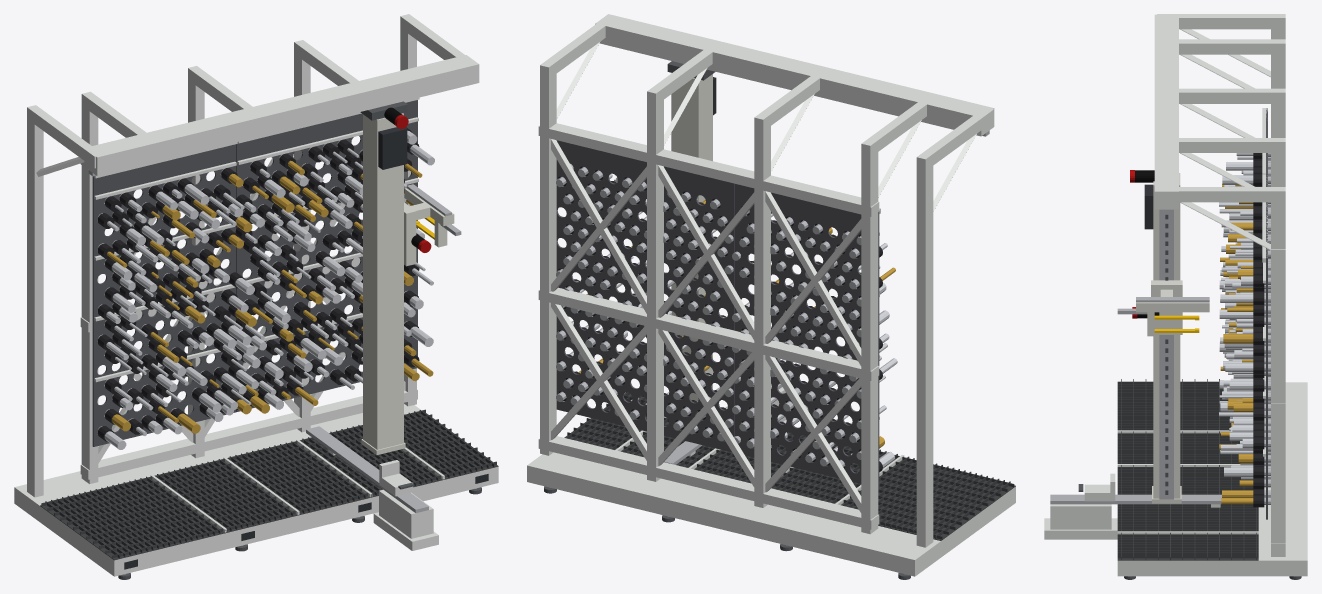
The model's file is tool_wall_magazine_2mod_white.glb.
3 renders of one model, left to right at view 1: azimuth 30°, elevation 25°; view 2: azimuth 150°, elevation 25°; view 3: azimuth 270°, elevation 25°, orthographic. The views are drawn at different scales.
Parts seen in each view (by area): view 1: twm_frame__truss_white, twm_base__grating, twm_frame__anthracite_lt, twm_tools__holder, twm_tools__tool_bright, twm_base__truss_white, mag_loader__struct_grey, twm_tools__tool_gold, twm_load_station__truss_white, twm_load_station__steel, mag_loader_z__struct_grey, mag_loader__anthracite (+2 smaller); view 2: twm_frame__truss_white, twm_frame__anthracite_lt, twm_base__truss_white, twm_tools__steel, twm_base__grating, mag_loader__struct_grey, twm_tools__holder, twm_tools__tool_bright; view 3: twm_frame__truss_white, twm_base__grating, twm_base__truss_white, twm_tools__tool_bright, twm_tools__holder, mag_loader__struct_grey, mag_loader__steel, twm_tools__tool_gold, twm_load_station__truss_white, mag_loader_z__struct_grey, twm_load_station__steel, twm_tools__steel (+6 smaller).
Part boxes in pixels (bbox=[...]): twm_frame__truss_white: bbox=[27, 14, 479, 497]; twm_base__grating: bbox=[40, 409, 498, 560]; twm_frame__anthracite_lt: bbox=[92, 100, 417, 446]; twm_tools__holder: bbox=[97, 127, 419, 441]; twm_tools__tool_bright: bbox=[104, 130, 434, 449]; twm_base__truss_white: bbox=[14, 404, 498, 576]; mag_loader__struct_grey: bbox=[361, 113, 405, 455]; twm_tools__tool_gold: bbox=[107, 160, 433, 433]; twm_load_station__truss_white: bbox=[328, 449, 438, 550]; twm_load_station__steel: bbox=[306, 426, 428, 512]; mag_loader_z__struct_grey: bbox=[404, 188, 454, 266]; mag_loader__anthracite: bbox=[378, 127, 407, 169]; twm_frame__truss_white: bbox=[538, 14, 994, 547]; twm_frame__anthracite_lt: bbox=[556, 140, 879, 487]; twm_base__truss_white: bbox=[527, 416, 1015, 576]; twm_tools__steel: bbox=[556, 163, 861, 467]; twm_base__grating: bbox=[564, 392, 1015, 540]; mag_loader__struct_grey: bbox=[671, 73, 712, 401]; twm_tools__holder: bbox=[558, 166, 882, 472]; twm_tools__tool_bright: bbox=[569, 173, 897, 467]; twm_frame__truss_white: bbox=[1154, 14, 1285, 556]; twm_base__grating: bbox=[1117, 379, 1258, 560]; twm_base__truss_white: bbox=[1117, 382, 1307, 576]; twm_tools__tool_bright: bbox=[1219, 153, 1253, 479]; twm_tools__holder: bbox=[1253, 153, 1264, 507]; mag_loader__struct_grey: bbox=[1152, 173, 1181, 503]; mag_loader__steel: bbox=[1159, 209, 1173, 499]; twm_tools__tool_gold: bbox=[1219, 184, 1253, 504]; twm_load_station__truss_white: bbox=[1044, 504, 1220, 539]; mag_loader_z__struct_grey: bbox=[1136, 280, 1209, 334]; twm_load_station__steel: bbox=[1050, 494, 1221, 504]; twm_tools__steel: bbox=[1264, 153, 1270, 504].
Bounding box in the file's own units: 3.44 × 3.54 × 2.15.
